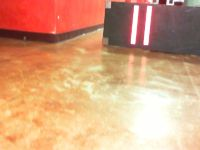switch: (129, 5, 139, 44), (143, 6, 153, 45)
